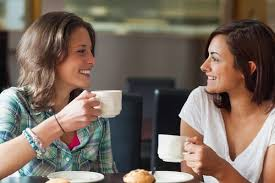person: (16, 17, 111, 138), (187, 21, 270, 130)
